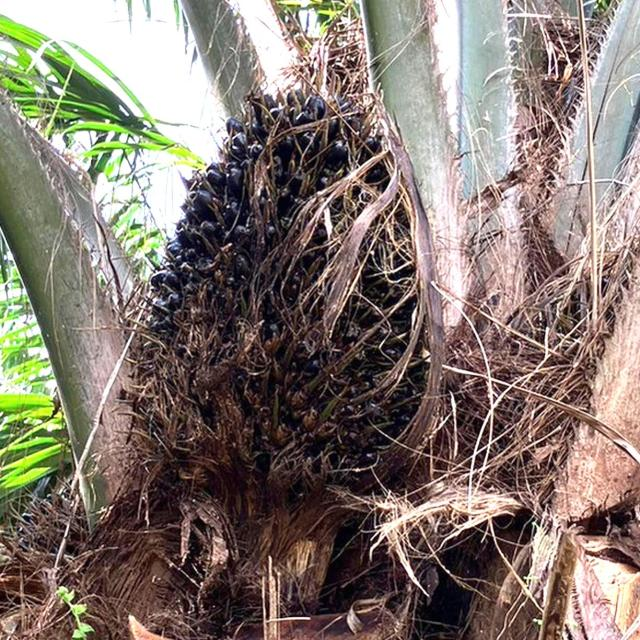unripe: (148, 92, 433, 466)
